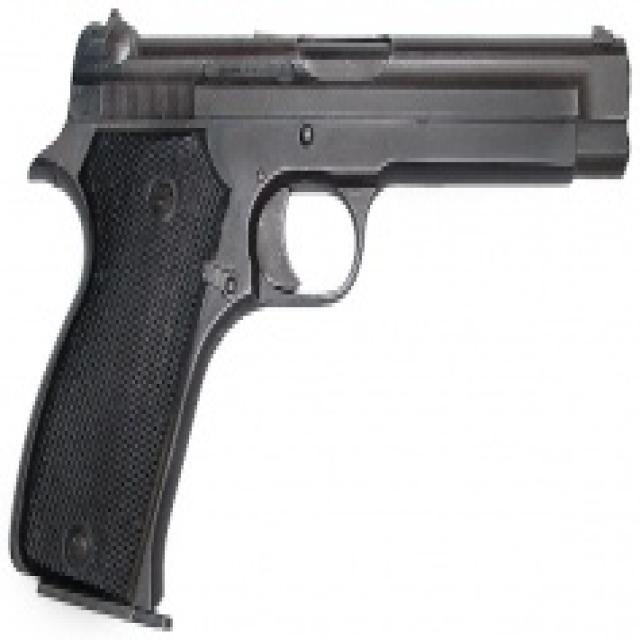pistol: (6, 1, 640, 640)
